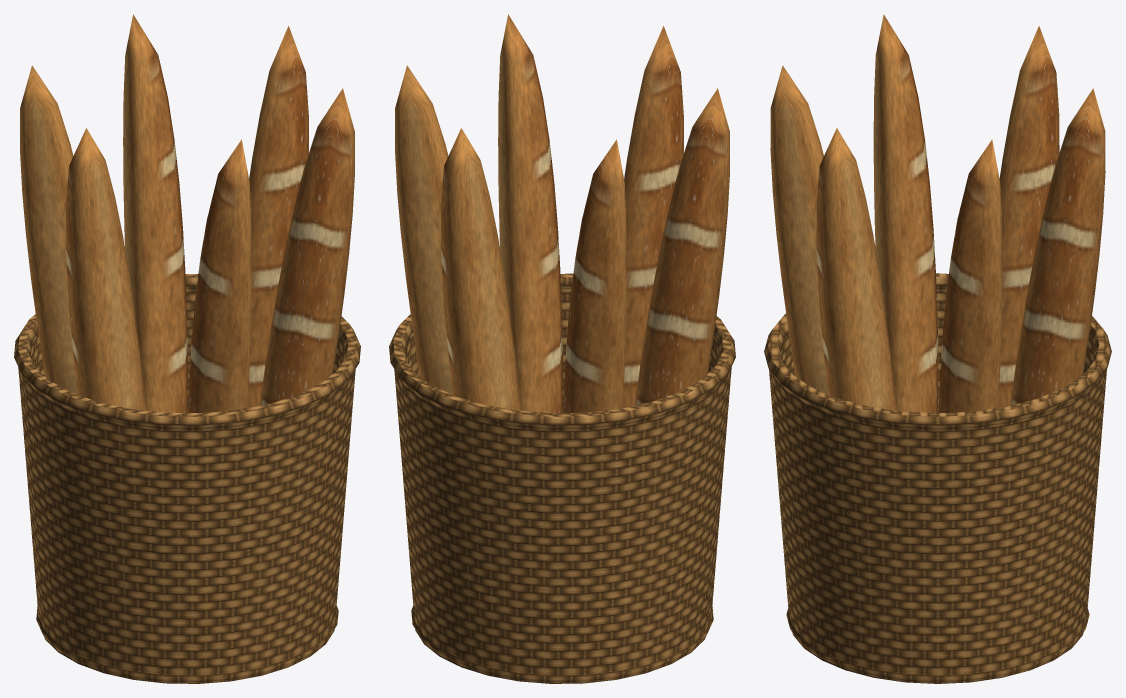
The model's file is sk_bakery_basket_baguette.fbx.
The picture shows the model from 3 angles, left to right: view 1: azimuth 30°, elevation 25°; view 2: azimuth 150°, elevation 25°; view 3: azimuth 270°, elevation 25°; orthographic projection.
Parts seen in each view (by area): view 1: sk_bakery_basket_baguette; view 2: sk_bakery_basket_baguette; view 3: sk_bakery_basket_baguette.
Part boxes in pixels (x1,y1,x2,y2): sk_bakery_basket_baguette: [14, 14, 360, 683]; sk_bakery_basket_baguette: [389, 14, 735, 683]; sk_bakery_basket_baguette: [764, 14, 1111, 683].
Bounding box in the file's own units: 0.351 × 0.6064 × 0.351.
2 materials, 2 textured.
